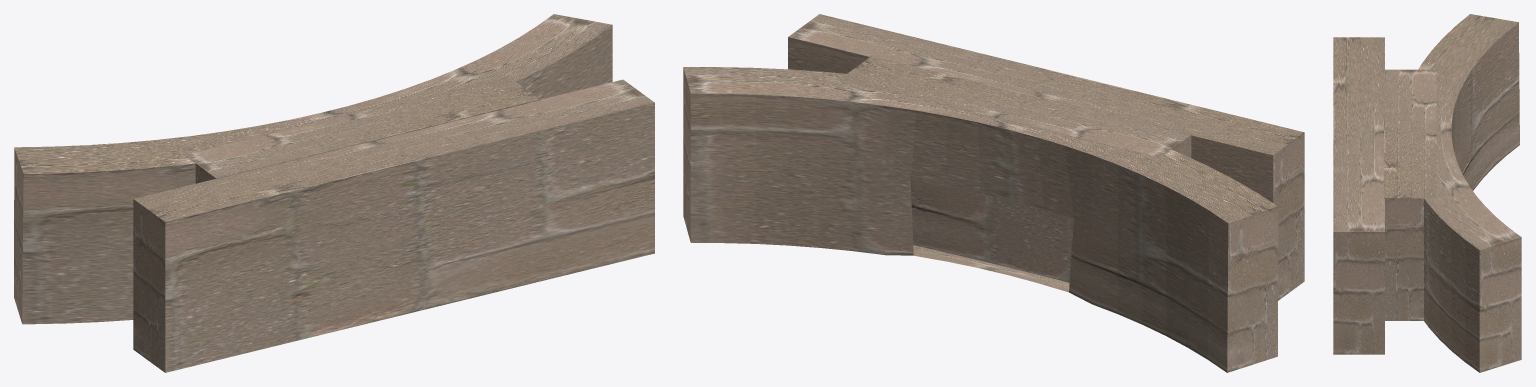
The model's file is 图书馆.glb.
3 views of the same model, side by side, from view 1: azimuth 30°, elevation 25°; view 2: azimuth 150°, elevation 25°; view 3: azimuth 270°, elevation 25° (orthographic). The views are drawn at different scales.
Visible parts, largest first — view 1: 立方体; view 2: 立方体; view 3: 立方体.
Part boxes in pixels (x1,y1,x2,y2): 立方体: (14,14,654,372); 立方体: (683,14,1304,372); 立方体: (1333,14,1521,372).
Size of the model in its own units: 21.64 by 5.26 by 7.28.
Materials: 2 (2 with a texture image).
